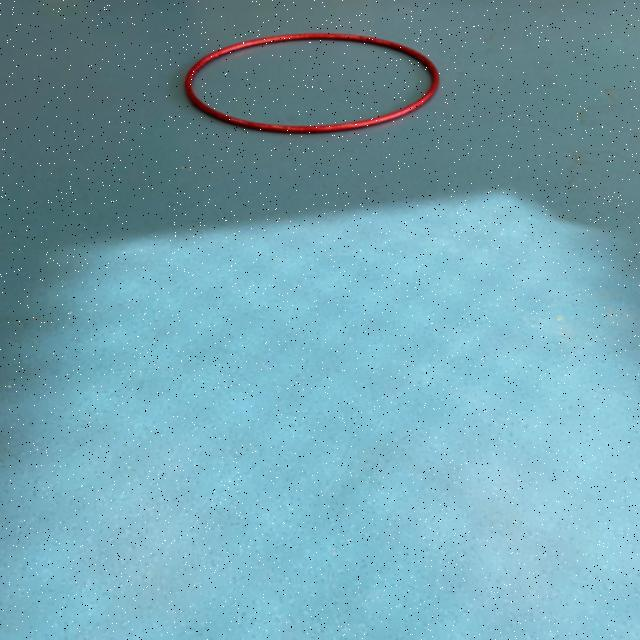Circle: (174, 26, 454, 140)
